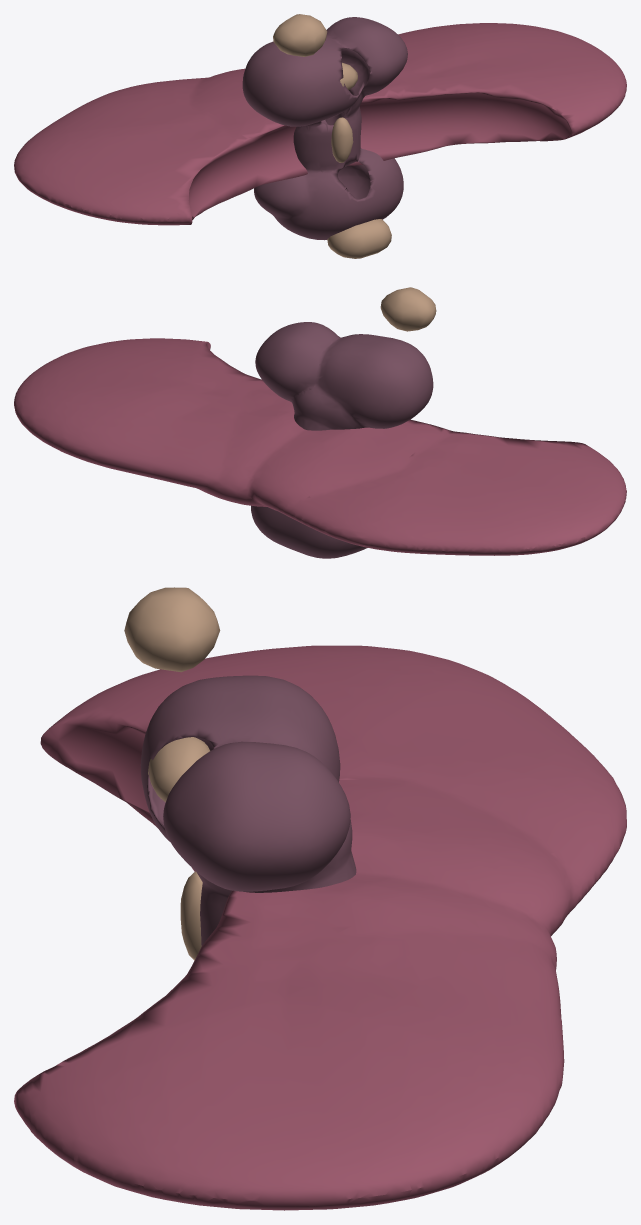
Rendered from transmembrane_complex_lod1.glb.
3 renders of one model, top to bottom at view 1: azimuth 30°, elevation 25°; view 2: azimuth 150°, elevation 25°; view 3: azimuth 270°, elevation 25°, orthographic. The views are drawn at different scales.
Visible parts, largest first — view 1: Soft_Undulating_Membrane.001, Asymmetric_Transmembrane_Complex.001, released cargo.001, approaching cargo.001, compressed cargo.001; view 2: Soft_Undulating_Membrane.001, Asymmetric_Transmembrane_Complex.001, approaching cargo.001; view 3: Soft_Undulating_Membrane.001, Asymmetric_Transmembrane_Complex.001, approaching cargo.001, captured cargo.001, compressed cargo.001.
Part boxes in pixels (x1=…): Soft_Undulating_Membrane.001: x1=14, y1=23, x2=626, y2=225; Asymmetric_Transmembrane_Complex.001: x1=242, y1=17, x2=407, y2=240; released cargo.001: x1=327, y1=219, x2=391, y2=258; approaching cargo.001: x1=273, y1=14, x2=327, y2=56; compressed cargo.001: x1=331, y1=117, x2=353, y2=162; Soft_Undulating_Membrane.001: x1=14, y1=338, x2=626, y2=555; Asymmetric_Transmembrane_Complex.001: x1=251, y1=322, x2=433, y2=558; approaching cargo.001: x1=380, y1=287, x2=436, y2=331; Soft_Undulating_Membrane.001: x1=14, y1=645, x2=626, y2=1210; Asymmetric_Transmembrane_Complex.001: x1=140, y1=675, x2=356, y2=946; approaching cargo.001: x1=124, y1=587, x2=220, y2=672; captured cargo.001: x1=148, y1=737, x2=209, y2=802; compressed cargo.001: x1=180, y1=871, x2=202, y2=960.
Size of the model in its own units: 6.53 by 2.84 by 3.07.
